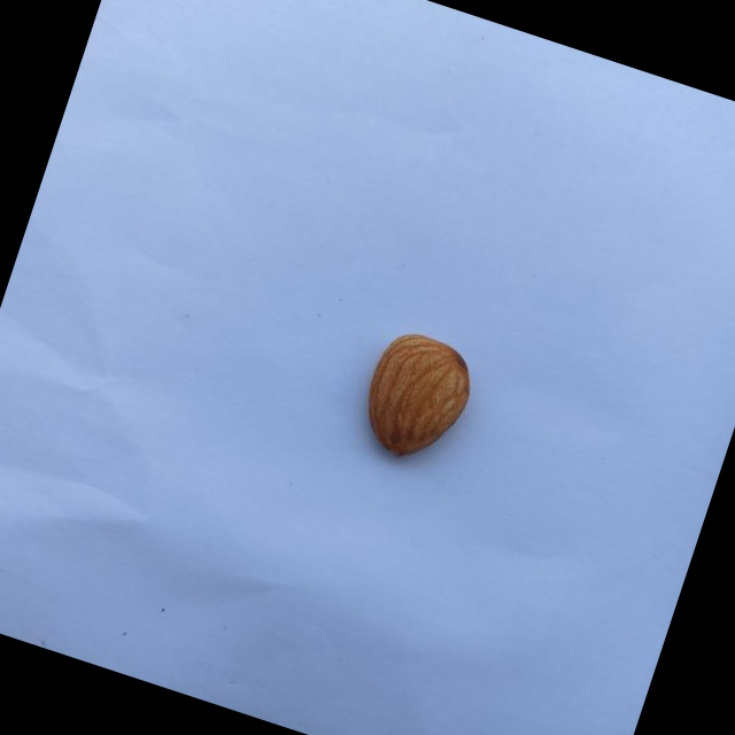grade1: (338, 314, 492, 483)
